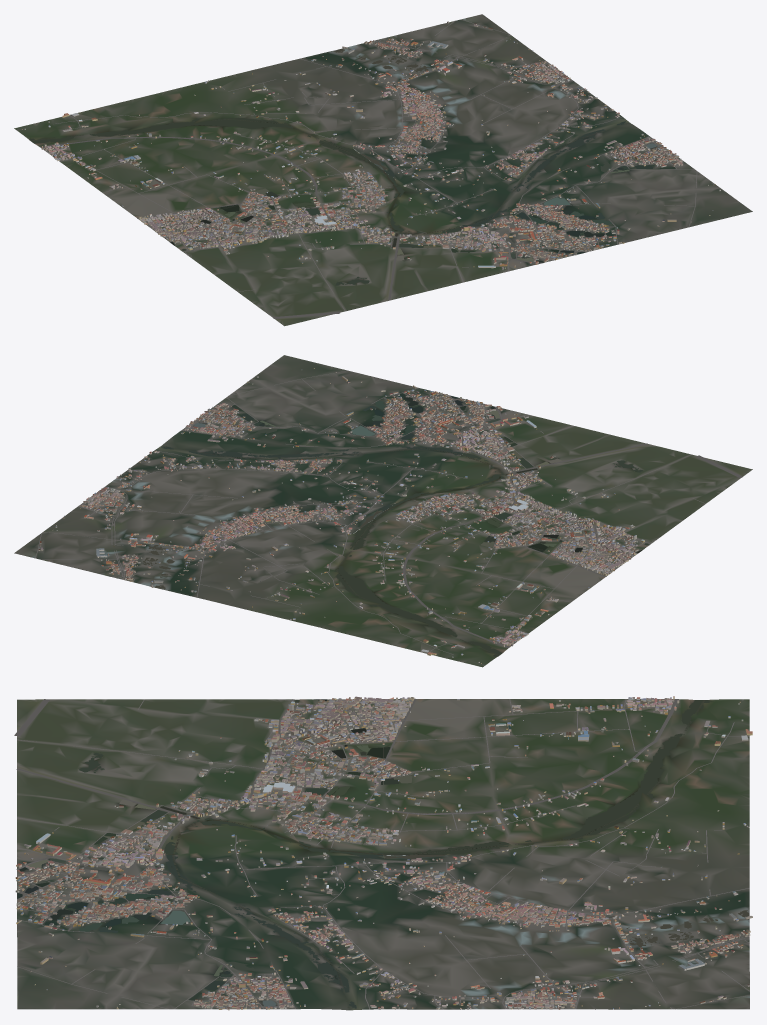
The picture shows the model from 3 angles, top to bottom: view 1: azimuth 30°, elevation 25°; view 2: azimuth 150°, elevation 25°; view 3: azimuth 270°, elevation 25°; orthographic projection. The views are drawn at different scales.
Visible parts, largest first — view 1: ground, buildings, roads, water; view 2: ground, buildings, roads, water; view 3: ground, buildings, roads, water.
Boxes of the visible parts, <box> form: ground: <box>14,14,752,326</box>; buildings: <box>21,21,720,269</box>; roads: <box>16,19,697,318</box>; water: <box>30,48,675,285</box>; ground: <box>14,355,752,667</box>; buildings: <box>38,368,644,663</box>; roads: <box>35,370,742,665</box>; water: <box>143,393,648,656</box>; ground: <box>17,699,749,1010</box>; buildings: <box>15,696,752,1010</box>; roads: <box>14,698,749,1009</box>; water: <box>17,699,749,1008</box>.
Bounding box in the file's own units: 2822 × 29.35 × 2828.
